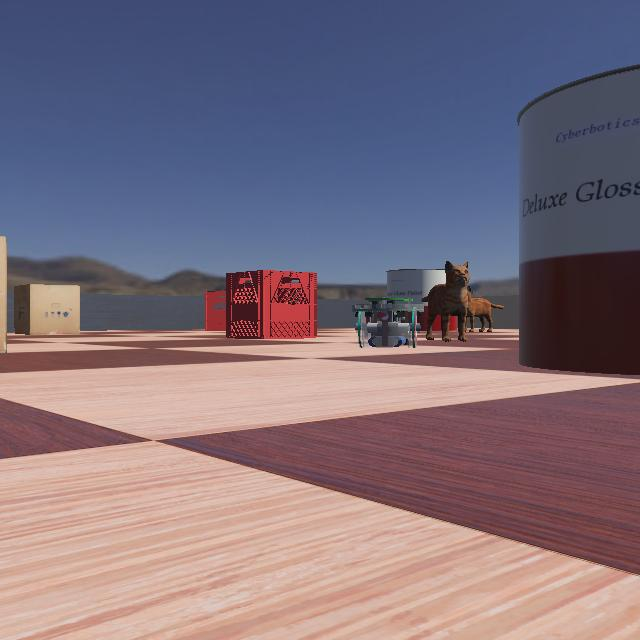cardboard-box: (0, 284, 91, 334), (0, 284, 91, 334), (0, 284, 91, 334)
cat: (417, 257, 475, 341), (417, 257, 475, 341), (417, 257, 475, 341), (417, 257, 475, 341), (417, 257, 475, 341), (447, 284, 518, 332), (447, 284, 518, 332), (447, 284, 518, 332), (447, 284, 518, 332), (447, 284, 518, 332), (447, 284, 518, 332)
paint-bucket: (471, 49, 639, 380), (471, 49, 639, 380), (471, 49, 639, 380), (471, 49, 639, 380)
plastic-crate: (218, 269, 316, 339), (198, 290, 250, 330), (198, 290, 250, 330)
